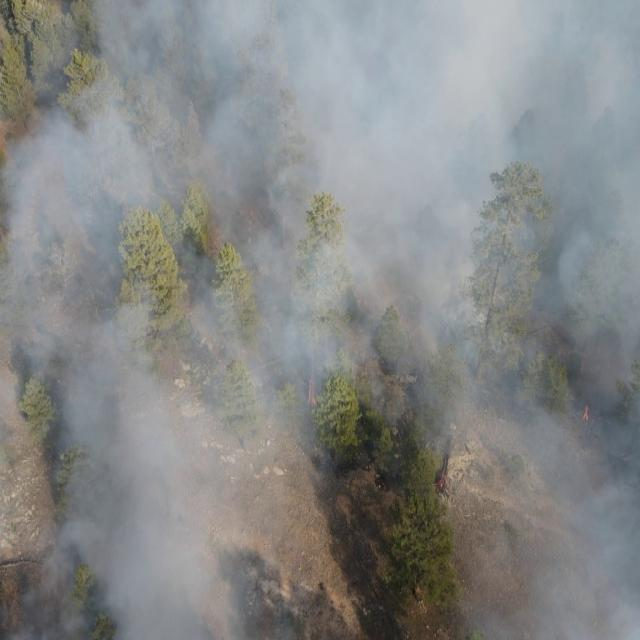fire: (304, 378, 320, 410), (436, 468, 449, 492), (579, 406, 594, 425)
smoke: (0, 0, 640, 640)
